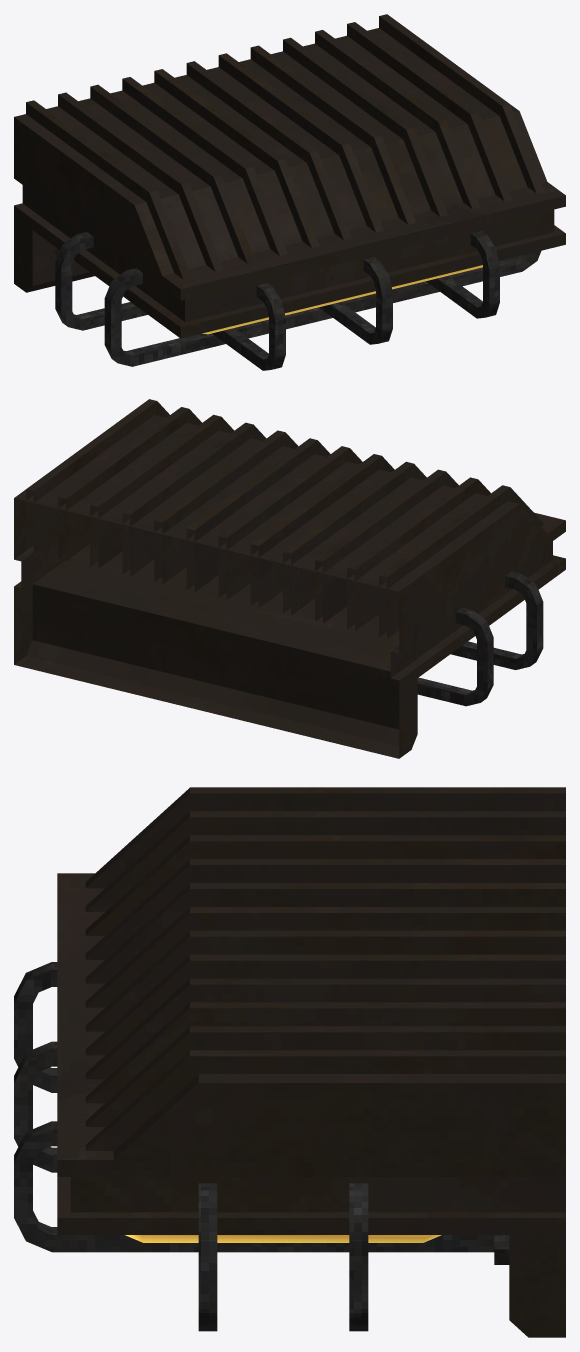
The model's file is lamp_5_on.glb.
3 views of the same model, one above another, from view 1: azimuth 30°, elevation 25°; view 2: azimuth 150°, elevation 25°; view 3: azimuth 270°, elevation 25° (orthographic). The views are drawn at different scales.
Parts seen in each view (by area): view 1: lamp_5_on, lamp_5_on_protector; view 2: lamp_5_on, lamp_5_on_protector; view 3: lamp_5_on, lamp_5_on_protector.
Boxes of the visible parts, left/top/right/bottom form: lamp_5_on: left=14, top=14, right=565, bottom=338; lamp_5_on_protector: left=55, top=231, right=541, bottom=370; lamp_5_on: left=14, top=399, right=565, bottom=758; lamp_5_on_protector: left=417, top=571, right=543, bottom=706; lamp_5_on: left=57, top=787, right=565, bottom=1337; lamp_5_on_protector: left=14, top=962, right=494, bottom=1331.
Size of the model in its own units: 0.405 by 0.1595 by 0.293.
Materials: 3 (3 with a texture image).
